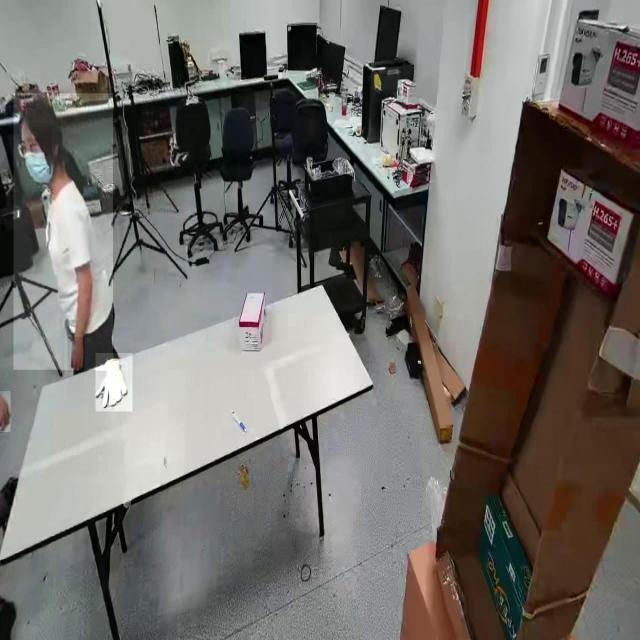gloves: (95, 352, 133, 412)
